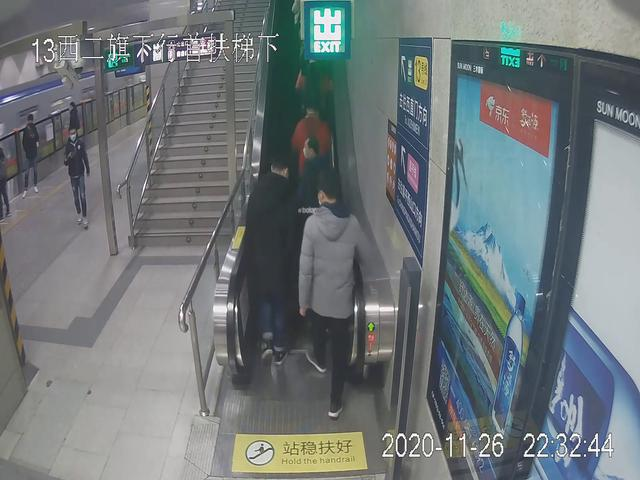person: (298, 169, 363, 414), (247, 155, 298, 363), (290, 102, 334, 200), (293, 134, 332, 235), (62, 125, 94, 230), (20, 114, 44, 201)
